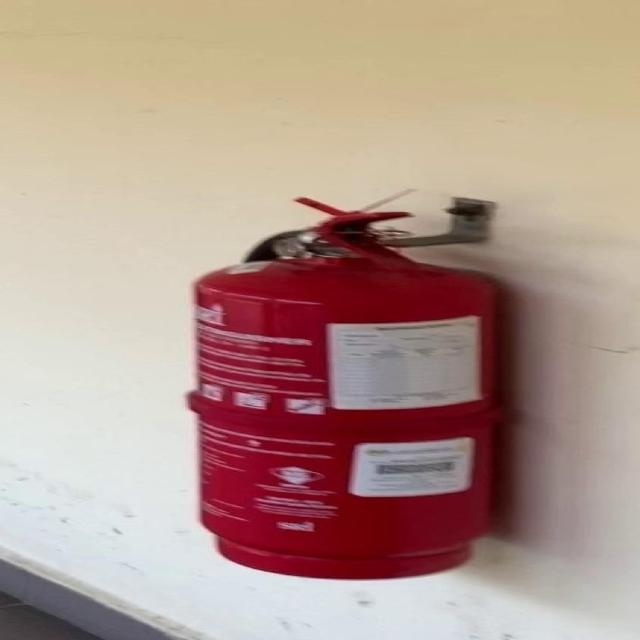fire_extinguisher: (174, 186, 520, 584)
